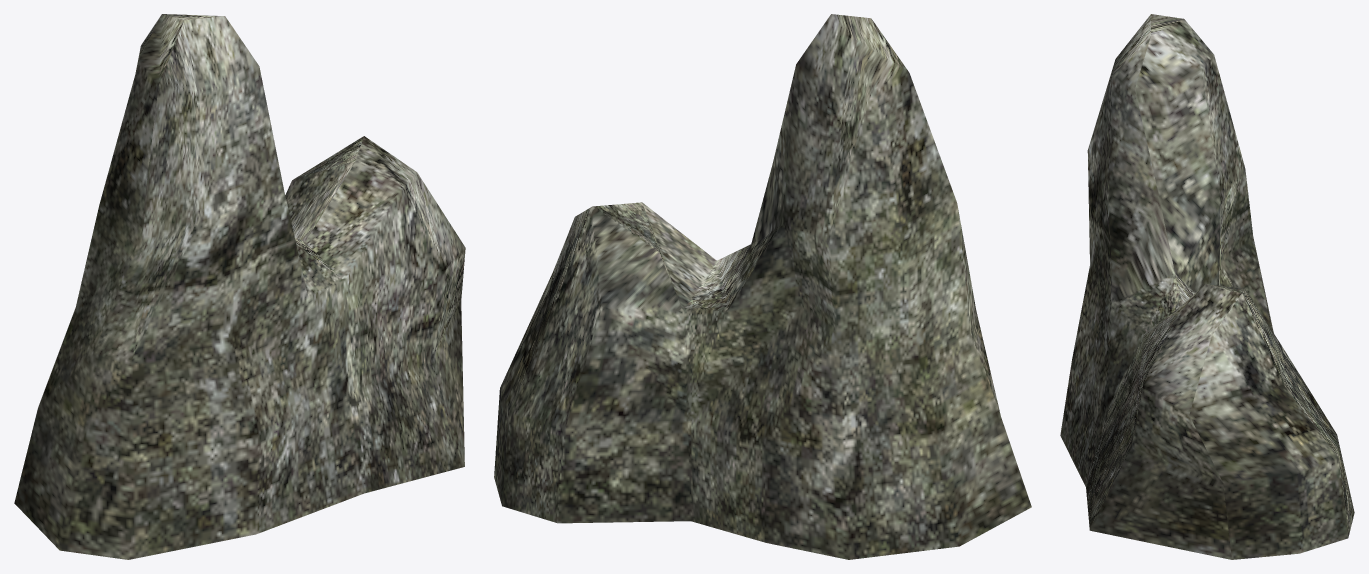
The model's file is general_obj_stone12.fbx.
The picture shows the model from 3 angles, left to right: view 1: azimuth 30°, elevation 25°; view 2: azimuth 150°, elevation 25°; view 3: azimuth 270°, elevation 25°; orthographic projection. The views are drawn at different scales.
Parts seen in each view (by area): view 1: Sphere01; view 2: Sphere01; view 3: Sphere01.
Part boxes in pixels (box(x1,y1,x2,y2)): Sphere01: box(14, 14, 465, 559); Sphere01: box(494, 14, 1031, 559); Sphere01: box(1060, 14, 1354, 559).
Size of the model in its own units: 3.74 by 3.7 by 2.39.
